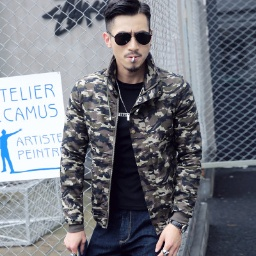face: (104, 1, 157, 74)
